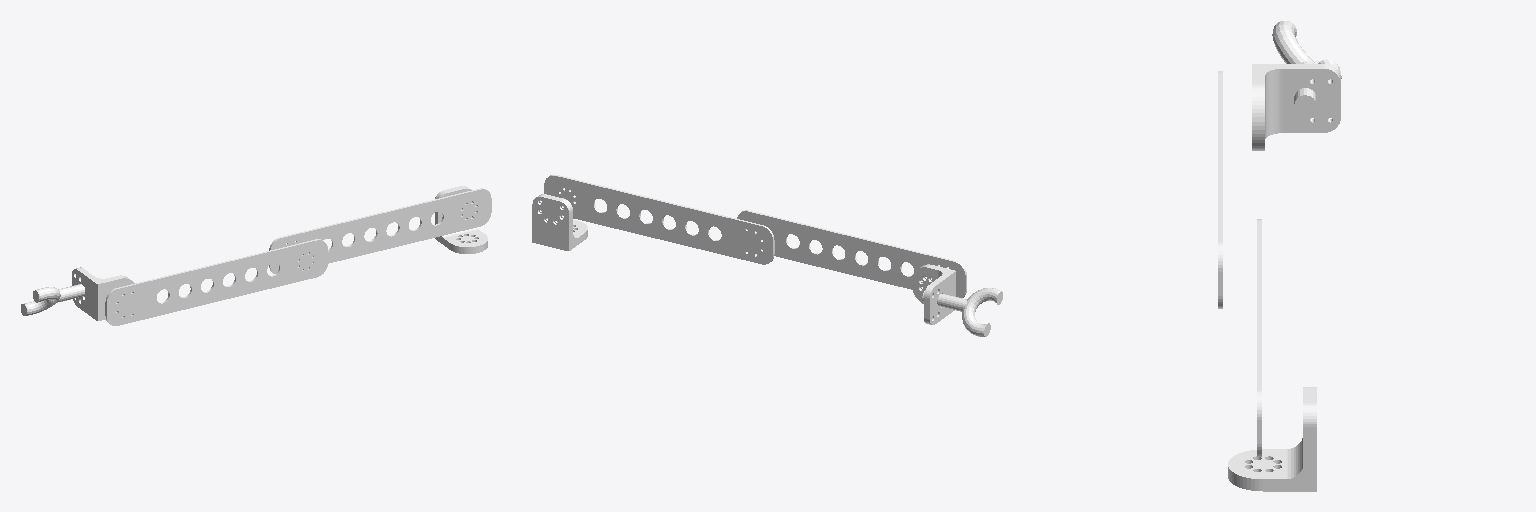
URDF robot description (example):
<?xml version="1.0"?>

<robot name="example">
  
  <!-- *************************************************** -->
  <!-- ***************** Kinematic Chain ***************** -->
  <!-- *************************************************** -->
  <!-- Note the 'origin' tag in the joints defines the
       shift and reorientation before the continuous joint
       rotates around the 'axis'. -->

  <!-- Locate the base plate at the world origin. -->
  <joint name="place" type="fixed">
    <parent link="world"/>
    <child  link="baseplate"/>
    <origin xyz="0 0 0" rpy="0 0 0"/>
  </joint>

  <!-- Shift across the base plate to the base motor. -->
  <joint name="baseplate" type="fixed">
    <parent link="baseplate"/>
    <child  link="basemotor"/>
    <origin xyz="0 0 0.02" rpy="0 0 0"/>
  </joint>

  <!-- Base motor.  Thickness: X5 = 31.1mm, X8 = 45.1mm -->
  <joint name="theta1" type="continuous">
    <parent link="basemotor"/>
    <child  link="lbracket"/>
    <origin xyz="0 0 0.0311" rpy="0 0 1.5708"/>
    <axis   xyz="0 0 1"/>
  </joint>
  
  <!-- Shift across the L bracket -->
  <joint name="lbracket" type="fixed">
    <parent link="lbracket"/>
    <child  link="shouldermotor"/>
    <origin xyz="0.0450 0 0.078" rpy="1.5708 1.5708 -1.5708"/> 
  </joint>

  <!-- Shoulder motor.  Thickness: X5 = 31.1mm, X8 = 45.1mm -->
  <joint name="theta2" type="continuous">
    <parent link="shouldermotor"/>
    <child  link="upperarm"/>
    <origin xyz="0 0 0.0451" rpy="0 0 -1.5708"/>
    <axis   xyz="0 0 1"/>
  </joint>

  <!-- Shift across the upper arm (1/4in thickness) -->
  <joint name="upperarm" type="fixed">
    <parent link="upperarm"/>
    <child  link="elbowmotor"/>
    <origin xyz="0.395 0 0.0127" rpy="0 0 0"/>
  </joint>

  <!-- Elbow motor.  Thickness: X5 = 31.1mm, X8 = 45.1mm -->
  <joint name="theta3" type="continuous">
    <parent link="elbowmotor"/>
    <child  link="lowerarm"/>
    <origin xyz="0 0 0.0311" rpy="0 0 0"/>
    <axis   xyz="0 0 1"/>
  </joint>

  <!-- Shift across the lowerarm arm (1/4in thickness) -->
  <joint name="lowerarm" type="fixed">
    <parent link="lowerarm"/>
    <child  link="wristmotor"/>
    <origin xyz="0.395 0 0" rpy="3.14159 0 0"/>
  </joint>

  <!-- Wrist1 motor.  Thickness: X5 = 31.1mm, X8 = 45.1mm -->
  <joint name="theta4" type="continuous">
    <parent link="wristmotor"/>
    <child  link="palm"/>
    <origin xyz="0 0 0.0311" rpy="0 0 0"/>
    <axis   xyz="0 0 1"/>
  </joint>

  <!-- Shift across the palm (1/4in thickness) -->
  <joint name="palm" type="fixed">
    <parent link="palm"/>
    <child  link="fingermotor"/>
    <origin xyz="0.05 0 0.06" rpy="0 1.5708 0"/>
    <axis   xyz="0 0 1"/>
  </joint>

  <!-- Wrist1 motor.  Thickness: X5 = 31.1mm, X8 = 45.1mm -->
  <joint name="theta5" type="continuous">
    <parent link="fingermotor"/>
    <child  link="finger"/>
    <origin xyz="0 0 0.0311" rpy="0 0 0"/>
    <axis   xyz="0 0 1"/>
  </joint>

  <!-- Shift across the palm (1/4in thickness) -->
  <joint name="finger" type="fixed">
    <parent link="finger"/>
    <child  link="tip"/>
    <origin xyz="0 0 0.09" rpy="0 0 0.7854"/>
    <axis   xyz="0 0 1"/>
  </joint>

  
  <!-- *************************************************** -->
  <!-- *************** Visual Link Elements ************** -->
  <!-- *************************************************** -->
  <!-- Note collada .dae files have better color/texture   -->
  <!-- suppport that STL files.                            -->

  <!-- Colors -->
  <material name="wood">  <color rgba="0.82 0.62 0.04 1"/>  </material>
  <material name="hebi">  <color rgba="0.82 0.06 0.06 1"/>  </material>
  <material name="plastic">  <color rgba="1.00 1.00 1.00 1"/>  </material>

  <!-- World can't take a visual element (at least in Gazebo). -->
  <link name="world"/>

  <link name="baseplate">
    <!-- Add a visual element -->
  </link>

  <link name="basemotor">
    <visual>
      <geometry>
        <mesh filename="package://basic134/meshes/X5.stl"
	      scale="0.001 0.001 0.001"/>
      </geometry>
      <material name="hebi"/>
    </visual>
  </link>

  <link name="lbracket">
    <visual>
      <geometry>
        <mesh filename="package://basic134/meshes/Lbracket.stl"
		scale="1.0 1.0 1.0"/>
      </geometry>
      <material name="plastic"/>
    </visual>
  </link>

  <link name="shouldermotor">
    <visual>
      <geometry>
        <mesh filename="package://basic134/meshes/X8.stl"
	      scale="0.001 0.001 0.001"/>
      </geometry>
      <material name="hebi"/>
    </visual>
  </link>

  <link name="upperarm">
    <visual>
      <origin
          xyz="-0.05 -0.04 -0.06"
          rpy="0 0 0"
			/>
      <geometry>
	      <mesh filename="package://basic134/meshes/arm.stl"
		    scale="0.001 0.001 0.001"/>
      </geometry>
      <material name="plastic"/>
    </visual>
  </link>

  <link name="elbowmotor">
    <visual>
      <geometry>
        <mesh filename="package://basic134/meshes/X5.stl"
	      scale="0.001 0.001 0.001"/>
      </geometry>
      <material name="hebi"/>
    </visual>
  </link>

  <link name="lowerarm">
    <visual>
      <origin
          xyz="-0.05 -0.04 -0.06"
          rpy="0 0 0"
			/>
      <geometry>
	      <mesh filename="package://basic134/meshes/arm.stl"
		    scale="0.001 0.001 0.001"/>
      </geometry>
      <material name="plastic"/>
    </visual>
  </link>

  <link name="wristmotor">
    <visual>
      <geometry>
        <mesh filename="package://basic134/meshes/X5.stl"
	      scale="0.001 0.001 0.001"/>
      </geometry>
      <material name="hebi"/>
    </visual>
  </link>

  <link name="palm">
    <visual>
      <geometry>
        <mesh filename="package://basic134/meshes/Lbracket.stl"
		scale="0.9 1.0 1.0"/>
      </geometry>
      <material name="plastic"/>
    </visual>
  </link>

  <link name="fingermotor">
    <visual>
      <geometry>
        <mesh filename="package://basic134/meshes/X5.stl"
	      scale="0.001 0.001 0.001"/>
      </geometry>
      <material name="hebi"/>
    </visual>
  </link>
  <link name="finger"/>
  <link name="tip">
    <visual>
      <origin
          xyz="0 0 0"
          rpy="-1.5707 0 0"
      />
      <geometry>
        <mesh filename="package://basic134/meshes/gripper.stl"
	      scale="0.005 0.005 0.005"/>
      </geometry>
      <material name="plastic"/>
    </visual>
  </link>

</robot>

--- Facts derived from the render (not from the file) ---
The picture shows the robot from 3 angles, left to right: view 1: azimuth 30°, elevation 25°; view 2: azimuth 150°, elevation 25°; view 3: azimuth 270°, elevation 25°; orthographic projection.
Model example with 13 links and 12 joints (5 continuous, 7 fixed), rooted at world, posed all joints at 0.
Links seen in each view (by area): view 1: lowerarm, upperarm, palm, lbracket, tip; view 2: upperarm, lowerarm, lbracket, palm, tip; view 3: palm, lbracket, tip, upperarm, lowerarm.
Link boxes in pixels (bbox=[...]): lowerarm: bbox=[105, 239, 327, 325]; upperarm: bbox=[269, 188, 491, 273]; palm: bbox=[72, 267, 134, 320]; lbracket: bbox=[435, 186, 487, 253]; tip: bbox=[21, 284, 84, 315]; upperarm: bbox=[544, 175, 774, 264]; lowerarm: bbox=[737, 210, 966, 297]; lbracket: bbox=[532, 194, 587, 250]; palm: bbox=[911, 264, 955, 324]; tip: bbox=[922, 288, 1002, 336]; palm: bbox=[1252, 64, 1340, 150]; lbracket: bbox=[1228, 387, 1316, 491]; tip: bbox=[1272, 21, 1341, 114]; upperarm: bbox=[1257, 219, 1261, 456]; lowerarm: bbox=[1218, 71, 1222, 308].
Bounding box of the posed robot: 1.01 × 0.1387 × 0.1188 m (x, y, z).
Meshes: 5 distinct files referenced, 5 mesh visuals loaded (3 binary STL); not drawn: 5 (reference not matched to a file when rendering).